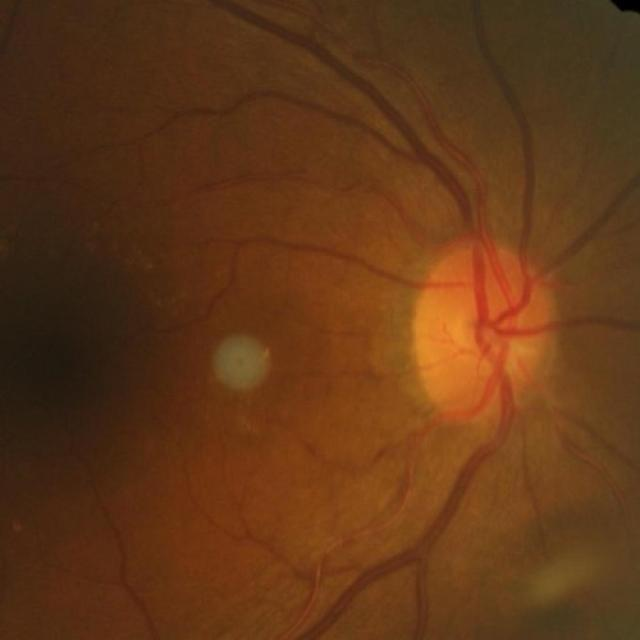OC: (453, 304, 525, 370)
OD: (411, 246, 556, 422)
